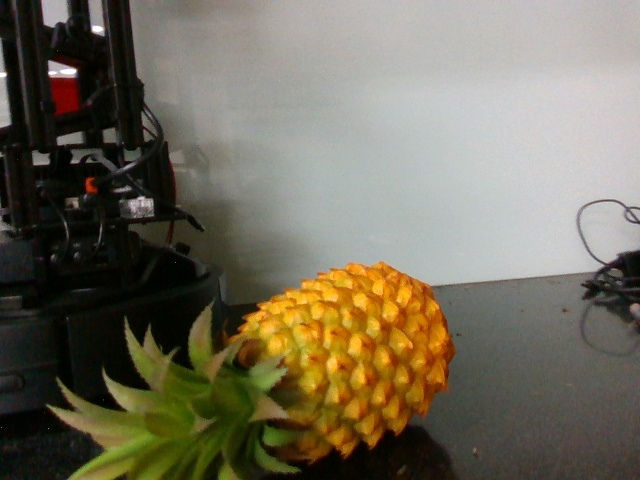pineapple: (37, 260, 457, 480)
